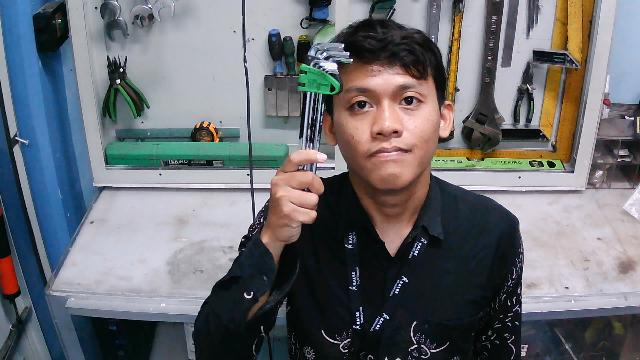kunci_l: (293, 42, 356, 208)
